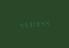five: (22, 21, 26, 28)
four: (17, 21, 21, 29), (47, 18, 51, 26), (42, 19, 46, 26)
nine: (37, 19, 41, 27)
one: (32, 20, 36, 27)
three: (27, 20, 31, 28)
